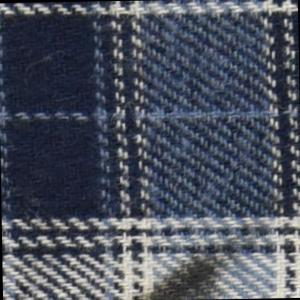Stain: (142, 235, 258, 300)
